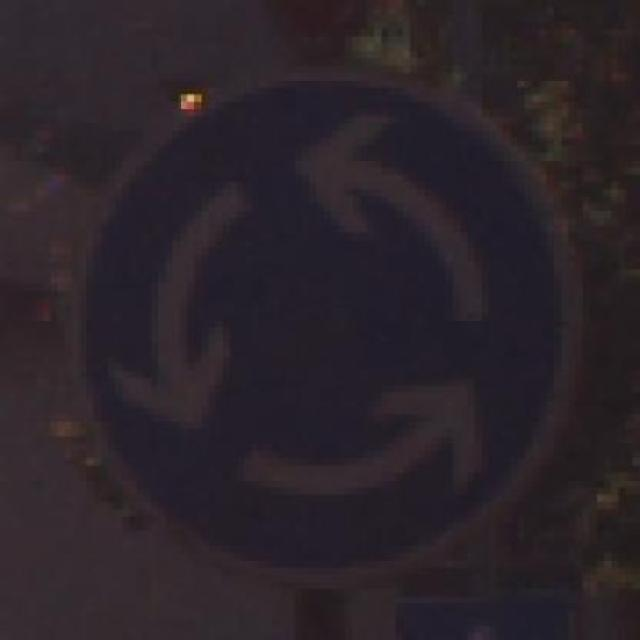Round-About: (36, 28, 612, 604)
